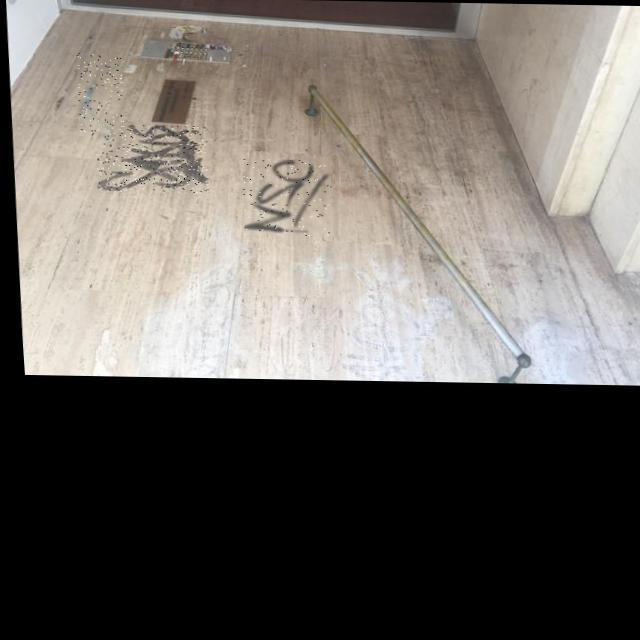-: (92, 123, 208, 193), (238, 158, 331, 236), (74, 52, 124, 136)
